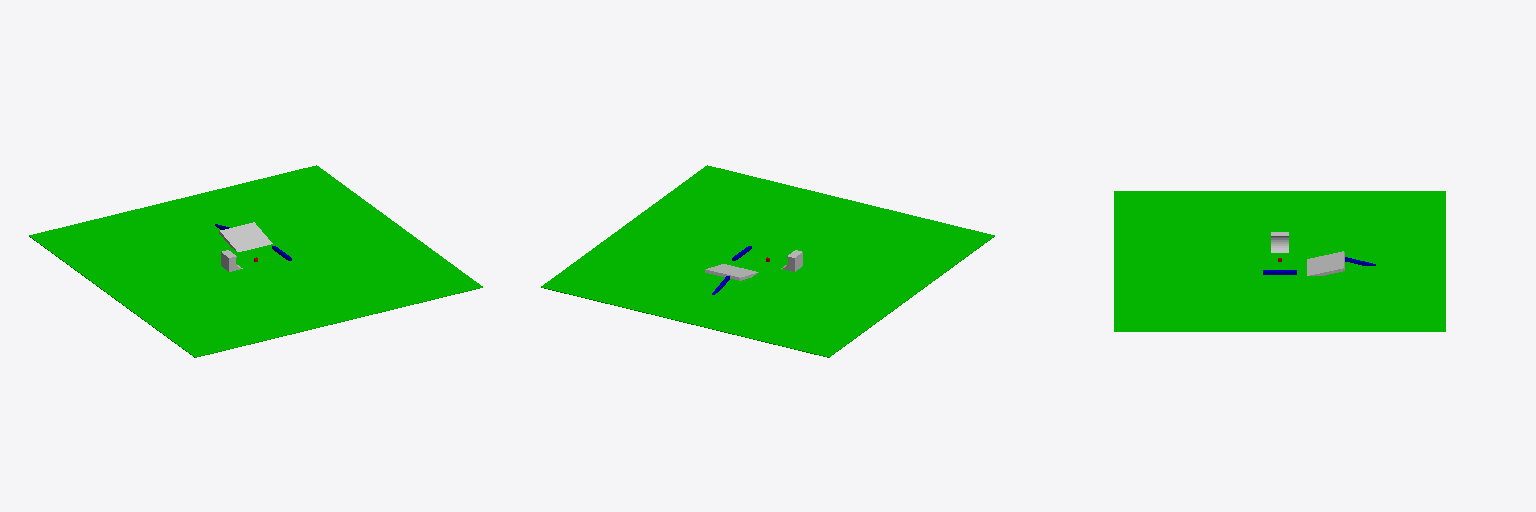
Rendered from skate0.obj.
The picture shows the model from 3 angles: view 1: azimuth 30°, elevation 25°; view 2: azimuth 150°, elevation 25°; view 3: azimuth 270°, elevation 25°; orthographic projection.
Visible parts, largest first — view 1: Cube_Cube.001_Material.002_Cube_Cube.001_Material.002_Material._, Cube_Cube.001_None_Cube_Cube.001_None_None; view 2: Cube_Cube.001_Material.002_Cube_Cube.001_Material.002_Material._; view 3: Cube_Cube.001_Material.002_Cube_Cube.001_Material.002_Material._, Cube_Cube.001_None_Cube_Cube.001_None_None.
Part boxes in pixels (x1,y1,x2,y2): Cube_Cube.001_Material.002_Cube_Cube.001_Material.002_Material._: (29,165,482,357); Cube_Cube.001_None_Cube_Cube.001_None_None: (219,222,272,251); Cube_Cube.001_Material.002_Cube_Cube.001_Material.002_Material._: (541,165,994,357); Cube_Cube.001_Material.002_Cube_Cube.001_Material.002_Material._: (1114,191,1445,331); Cube_Cube.001_None_Cube_Cube.001_None_None: (1307,251,1344,275).
Size of the model in its own units: 200 by 11.48 by 200.